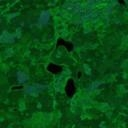alloviz: (63, 75, 77, 99), (54, 37, 74, 52), (46, 61, 65, 75), (76, 70, 83, 79), (116, 1, 125, 6)
